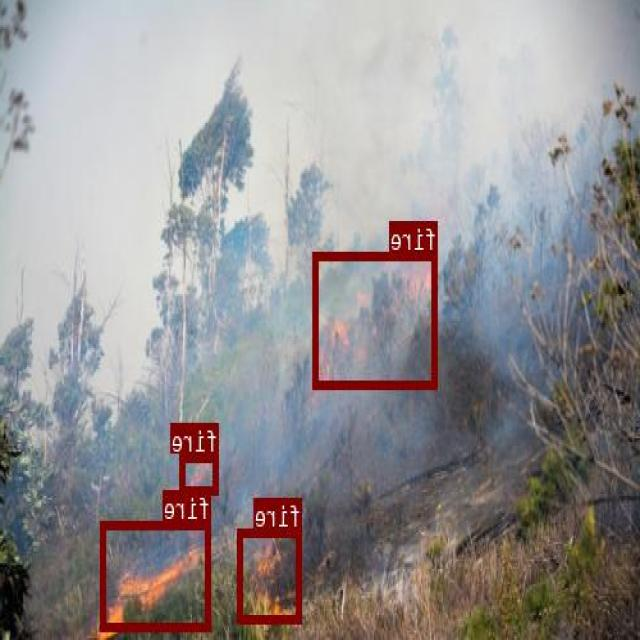fire: (315, 251, 439, 388), (101, 519, 212, 630), (238, 528, 302, 621), (180, 452, 220, 493)
